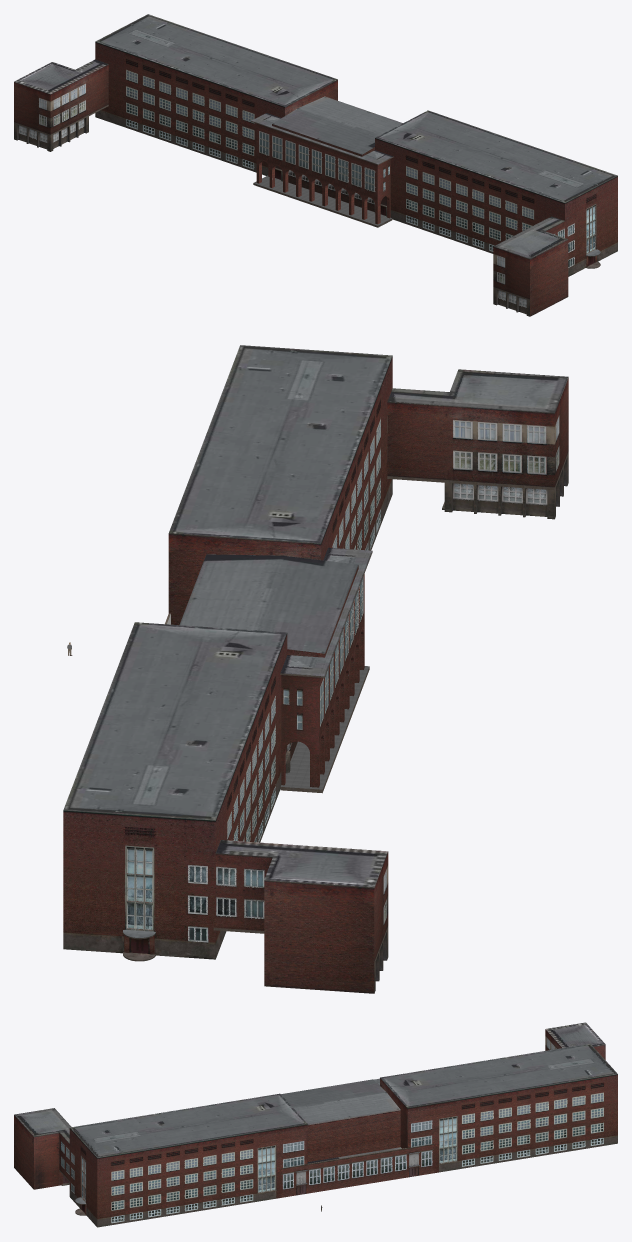
The model's file is School.fbx.
The picture shows the model from 3 angles, top to bottom: view 1: azimuth 30°, elevation 25°; view 2: azimuth 150°, elevation 25°; view 3: azimuth 270°, elevation 25°; orthographic projection. The views are drawn at different scales.
Visible parts, largest first — view 1: Component1, Component_6_1, Pestalozzi_Street_School1; view 2: Component_6_1, Component1, Pestalozzi_Street_School1; view 3: Component1, Component_6_1, Pestalozzi_Street_School1.
Boxes of the visible parts, x1=… form: Component1: x1=375, y1=110, x2=617, y2=316; Component_6_1: x1=14, y1=14, x2=337, y2=175; Pestalozzi_Street_School1: x1=14, y1=59, x2=567, y2=258; Component_6_1: x1=63, y1=622, x2=388, y2=993; Component1: x1=168, y1=345, x2=568, y2=625; Pestalozzi_Street_School1: x1=165, y1=369, x2=568, y2=887; Component1: x1=14, y1=1093, x2=307, y2=1227; Component_6_1: x1=380, y1=1029, x2=617, y2=1177; Pestalozzi_Street_School1: x1=14, y1=1022, x2=605, y2=1193.
Size of the model in its own units: 3302 by 713 by 5547.
